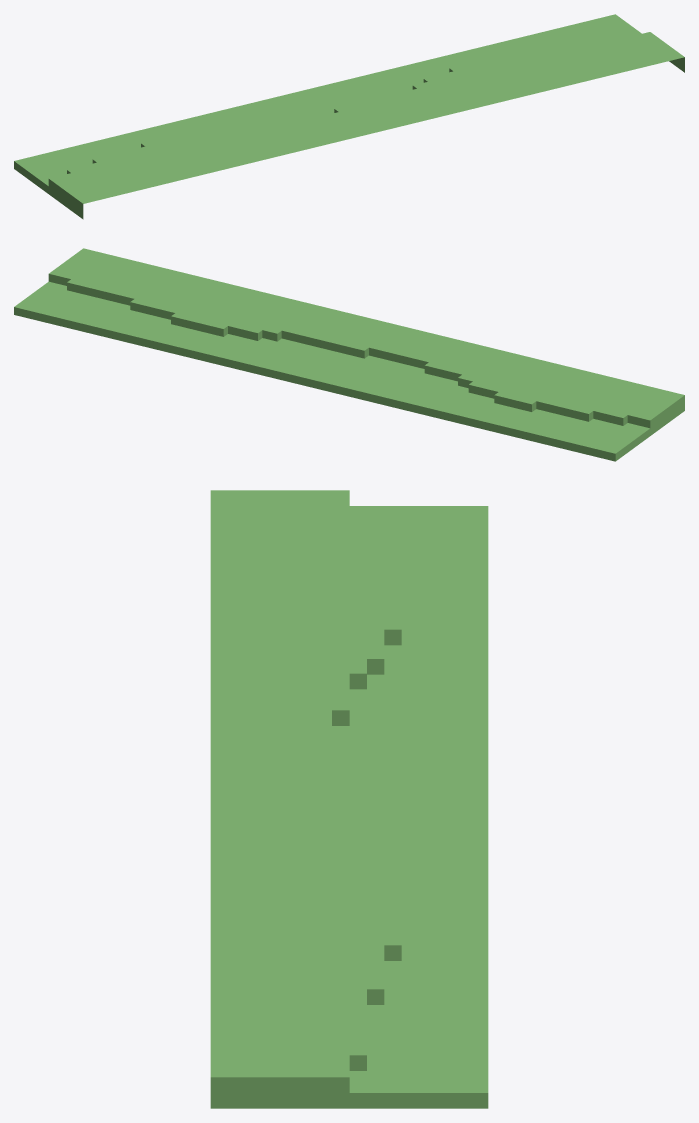
Rendered from Straight10-1step-1.fbx.
The picture shows the model from 3 angles, top to bottom: view 1: azimuth 30°, elevation 25°; view 2: azimuth 150°, elevation 25°; view 3: azimuth 270°, elevation 25°; orthographic projection. The views are drawn at different scales.
Visible parts, largest first — view 1: Straight10-2step; view 2: Straight10-2step; view 3: Straight10-2step.
Boxes of the visible parts, x1=… form: Straight10-2step: x1=14, y1=14, x2=684, y2=219; Straight10-2step: x1=14, y1=248, x2=684, y2=461; Straight10-2step: x1=210, y1=490, x2=488, y2=1108.
Bounding box in the file's own units: 80 × 2 × 16.
Materials: 1 (1 with a texture image).
